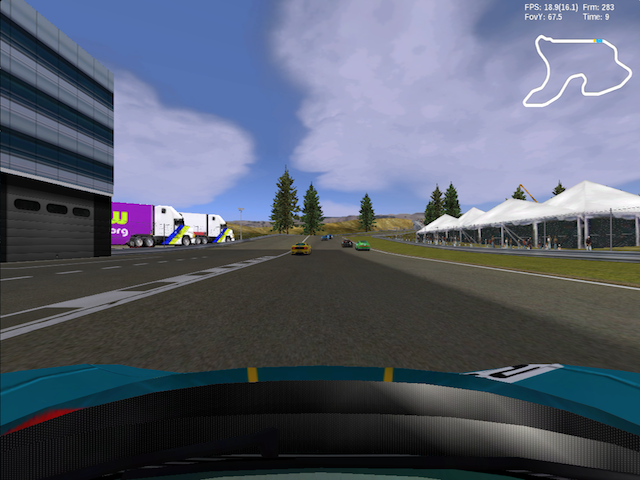Boxer96: (355, 241, 372, 251)
Cavallo360: (291, 243, 313, 256)
Spirit300: (341, 239, 353, 248)
